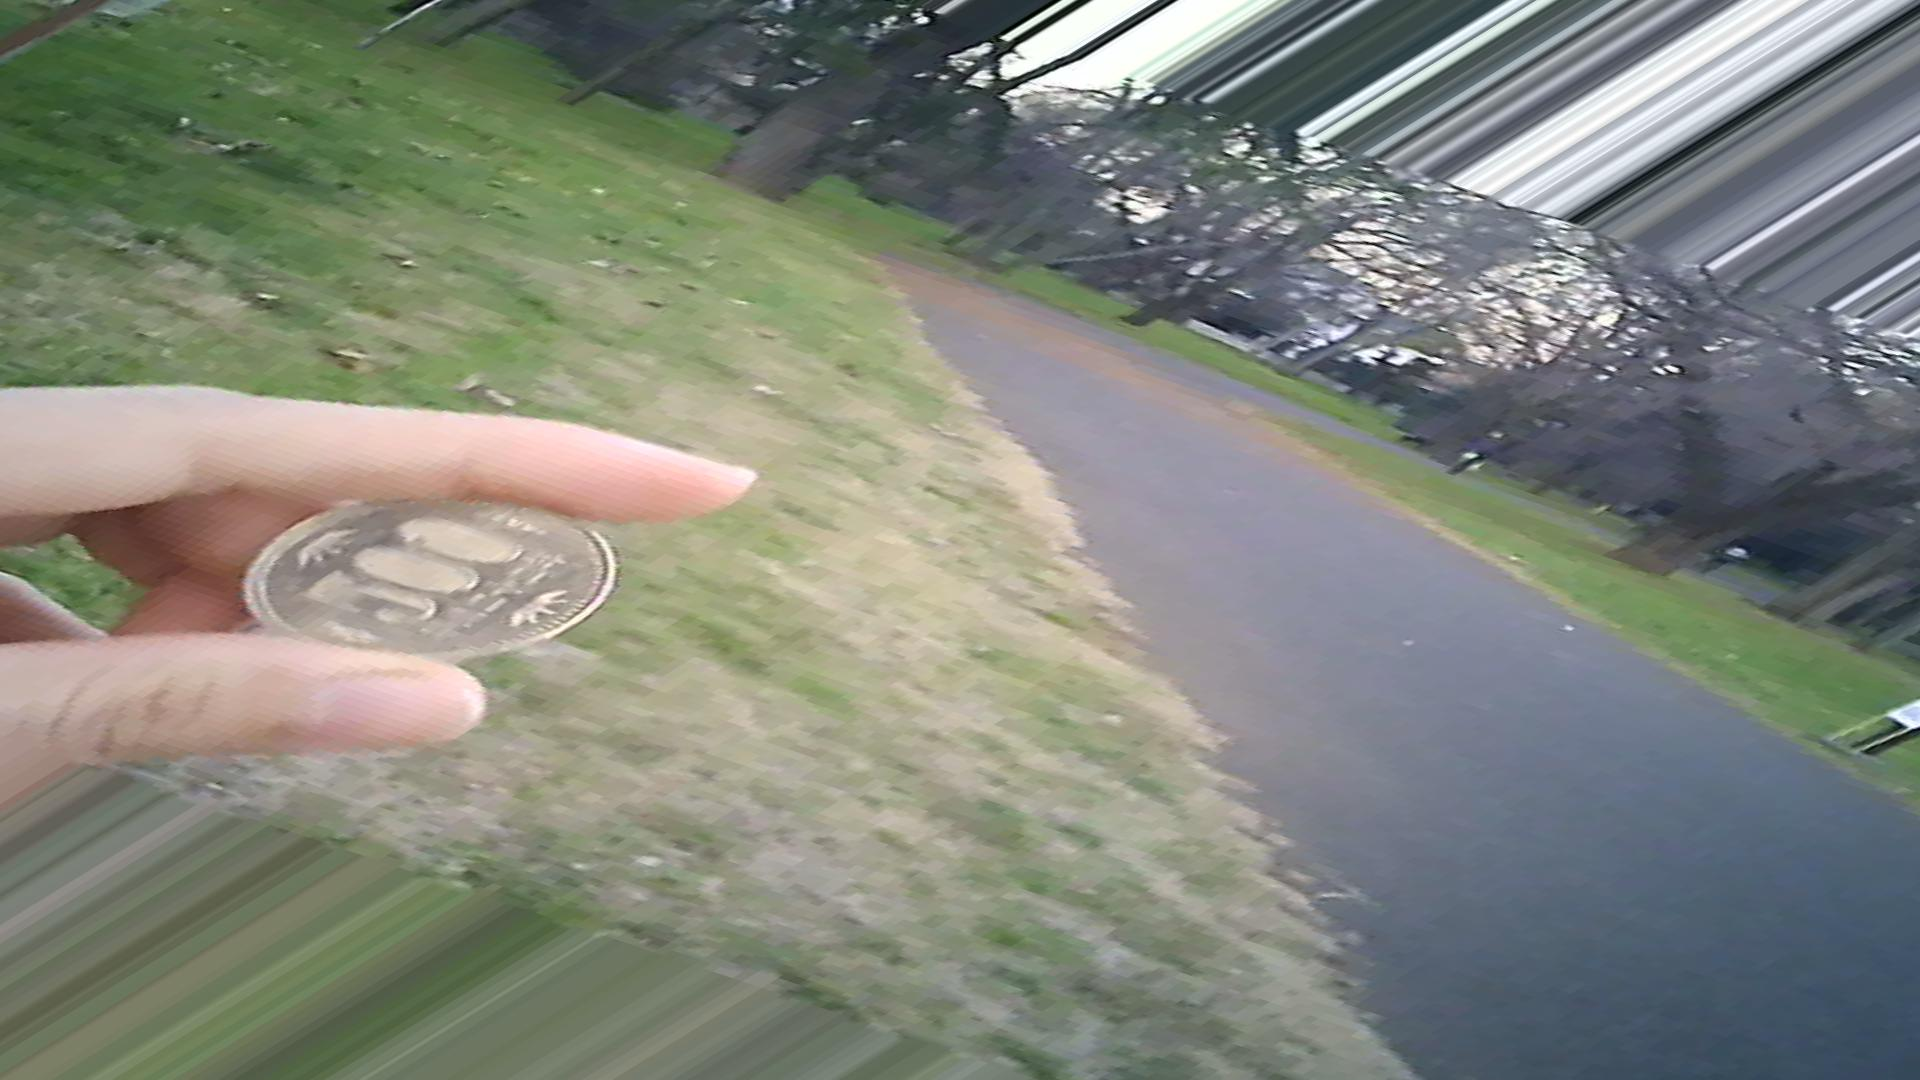500 Yen: (227, 483, 628, 680)
